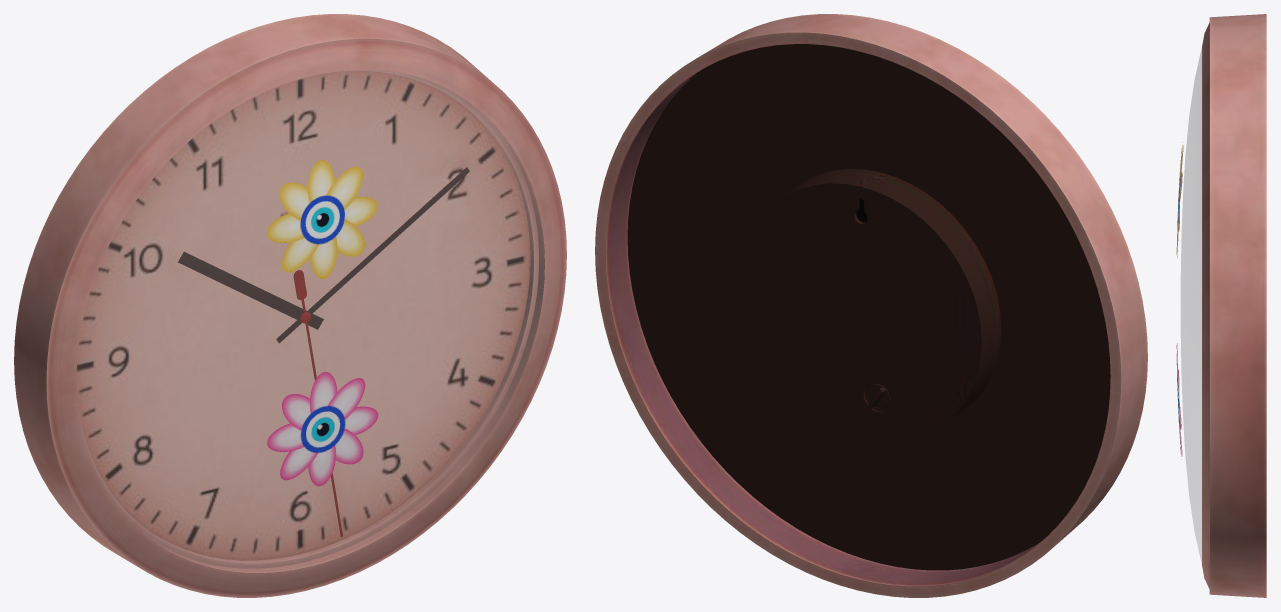
The model's file is nyb_trading_clock.glb.
The picture shows the model from 3 angles, left to right: view 1: azimuth 30°, elevation 25°; view 2: azimuth 150°, elevation 25°; view 3: azimuth 270°, elevation 25°; orthographic projection. The views are drawn at different scales.
Visible parts, largest first — view 1: wall_clock_minute_hand, stk_eyeflower_gold.png, stk_eyeflower.png; view 2: wall_clock_minute_hand; view 3: wall_clock_minute_hand, stk_eyeflower_gold.png, stk_eyeflower.png.
Boxes of the visible parts, box(x1,y1,x2,y2) form: wall_clock_minute_hand: box(14, 14, 566, 597); stk_eyeflower_gold.png: box(266, 160, 377, 279); stk_eyeflower.png: box(267, 372, 378, 486); wall_clock_minute_hand: box(595, 14, 1147, 597); wall_clock_minute_hand: box(1181, 14, 1266, 597); stk_eyeflower_gold.png: box(1176, 142, 1183, 257); stk_eyeflower.png: box(1176, 343, 1182, 459).
Size of the model in its own units: 0.3205 by 0.3205 by 0.0495.
4 materials, 3 textured.
